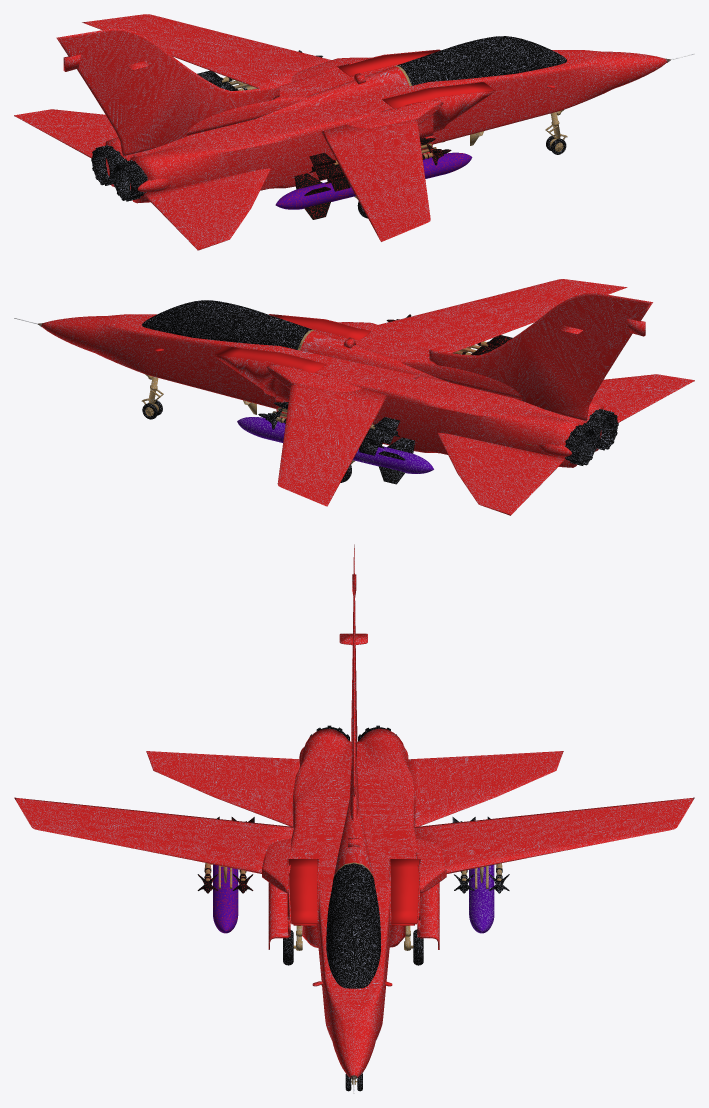
3 views of the same model, one above another, from view 1: azimuth 30°, elevation 25°; view 2: azimuth 150°, elevation 25°; view 3: azimuth 270°, elevation 25° (orthographic). The views are drawn at different scales.
Parts seen in each view (by area): view 1: jet2 (×16), MIS02; view 2: jet2 (×16), MIS01; view 3: jet2 (×14), MIS01, MIS02.
Part boxes in pixels (bbox=[...]): jet2 (×16): bbox=[14, 14, 667, 250]; MIS02: bbox=[275, 152, 472, 209]; jet2 (×16): bbox=[41, 279, 694, 515]; MIS01: bbox=[237, 417, 433, 473]; jet2 (×14): bbox=[14, 544, 694, 1077]; MIS01: bbox=[469, 865, 494, 933]; MIS02: bbox=[213, 864, 238, 933].
Size of the model in its own units: 616 by 502 by 219.
